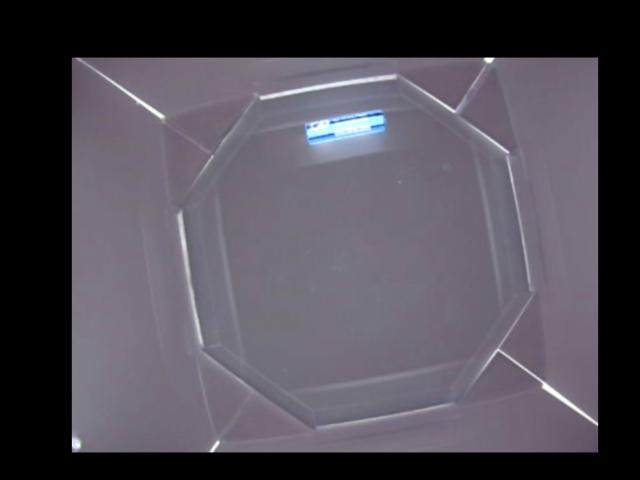Battery: (305, 107, 384, 146)
